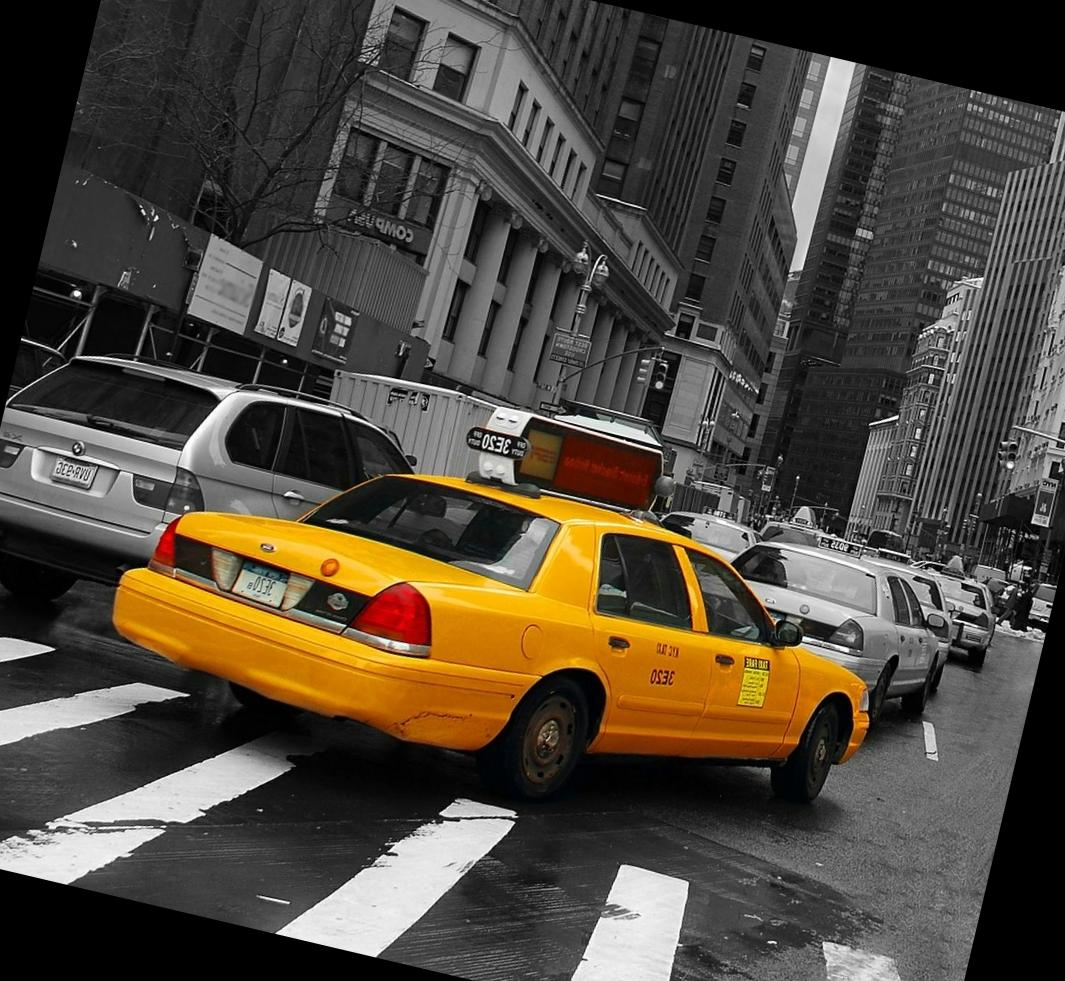taxi: (107, 465, 909, 831)
